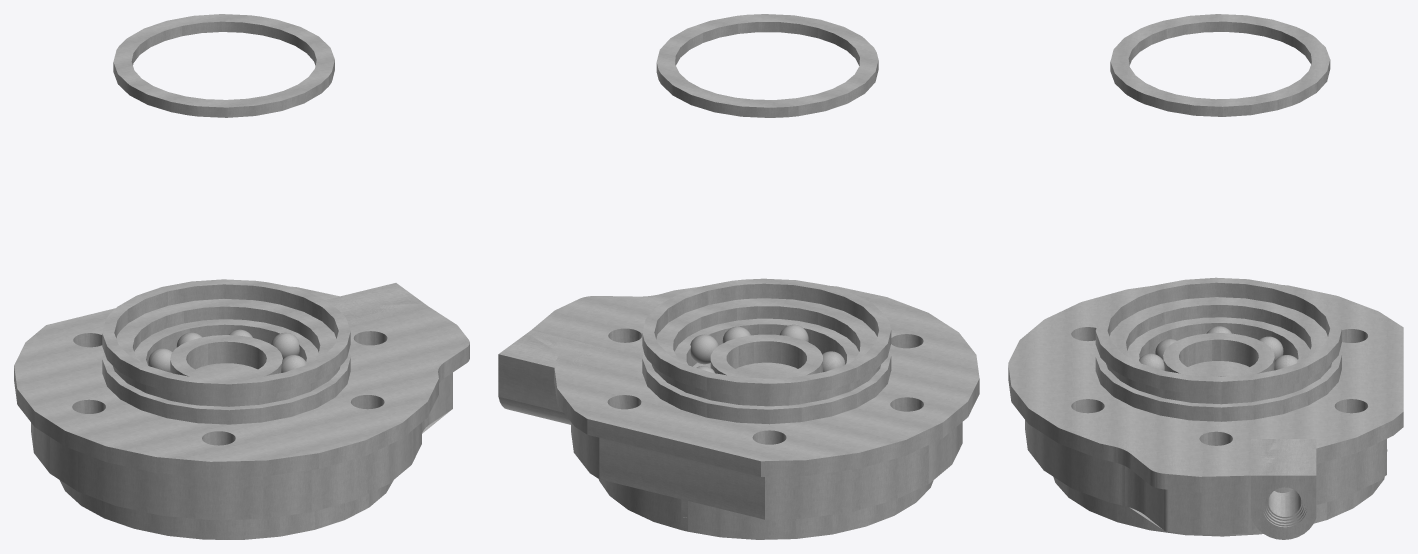
The picture shows the model from 3 angles, left to right: view 1: azimuth 30°, elevation 25°; view 2: azimuth 150°, elevation 25°; view 3: azimuth 270°, elevation 25°; orthographic projection.
Visible parts, largest first — view 1: 1, 2; view 2: 1, 2; view 3: 1, 2.
Boxes of the visible parts, x1,y1,x2,y2 form: 1: [14, 279, 469, 539]; 2: [113, 14, 334, 117]; 1: [498, 278, 979, 539]; 2: [656, 14, 878, 117]; 1: [1008, 277, 1403, 539]; 2: [1110, 14, 1330, 116].
Bounding box in the file's own units: 354 × 340 × 301.
Materials: 2 (2 with a texture image).
